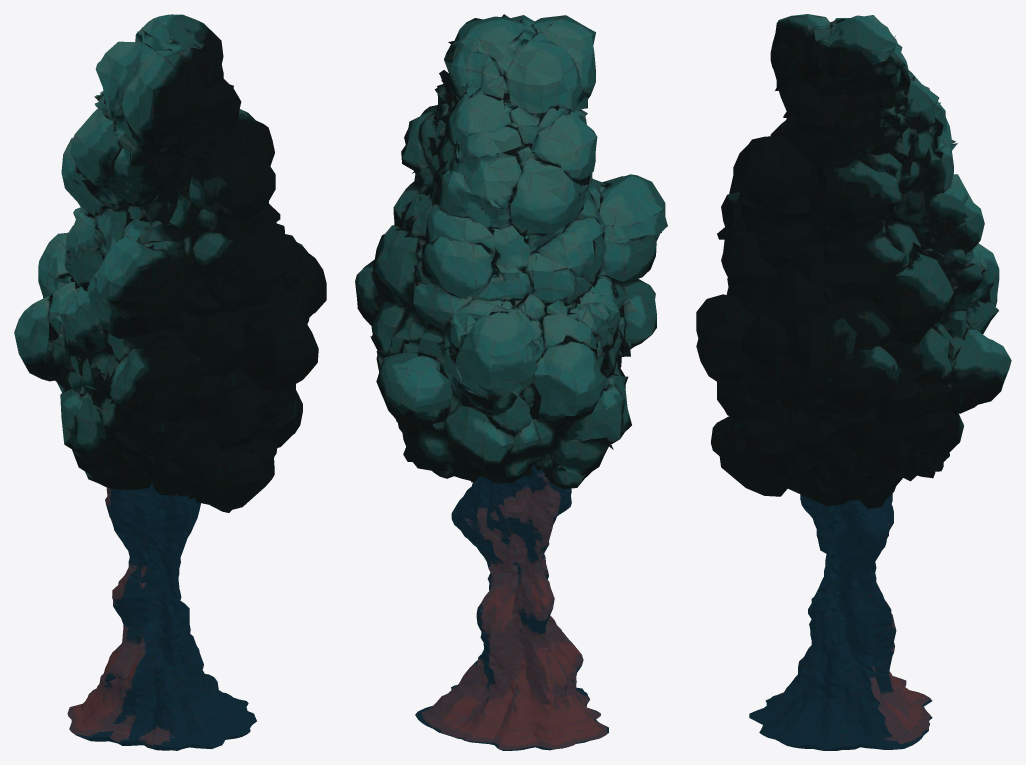
The model's file is treeandtrunklowquality.glb.
3 views of the same model, side by side, from view 1: azimuth 30°, elevation 25°; view 2: azimuth 150°, elevation 25°; view 3: azimuth 270°, elevation 25° (orthographic).
Visible parts, largest first — view 1: tree_canopy, tree_trunk; view 2: tree_canopy, tree_trunk; view 3: tree_canopy, tree_trunk.
Boxes of the visible parts, bbox=[...] form: tree_canopy: bbox=[14, 14, 326, 512]; tree_trunk: bbox=[67, 483, 256, 750]; tree_canopy: bbox=[355, 14, 667, 489]; tree_trunk: bbox=[415, 464, 608, 750]; tree_canopy: bbox=[696, 14, 1011, 508]; tree_trunk: bbox=[749, 494, 932, 750].
Bounding box in the file's own units: 8.15 × 20.34 × 8.26.
2 materials, 2 textured.
